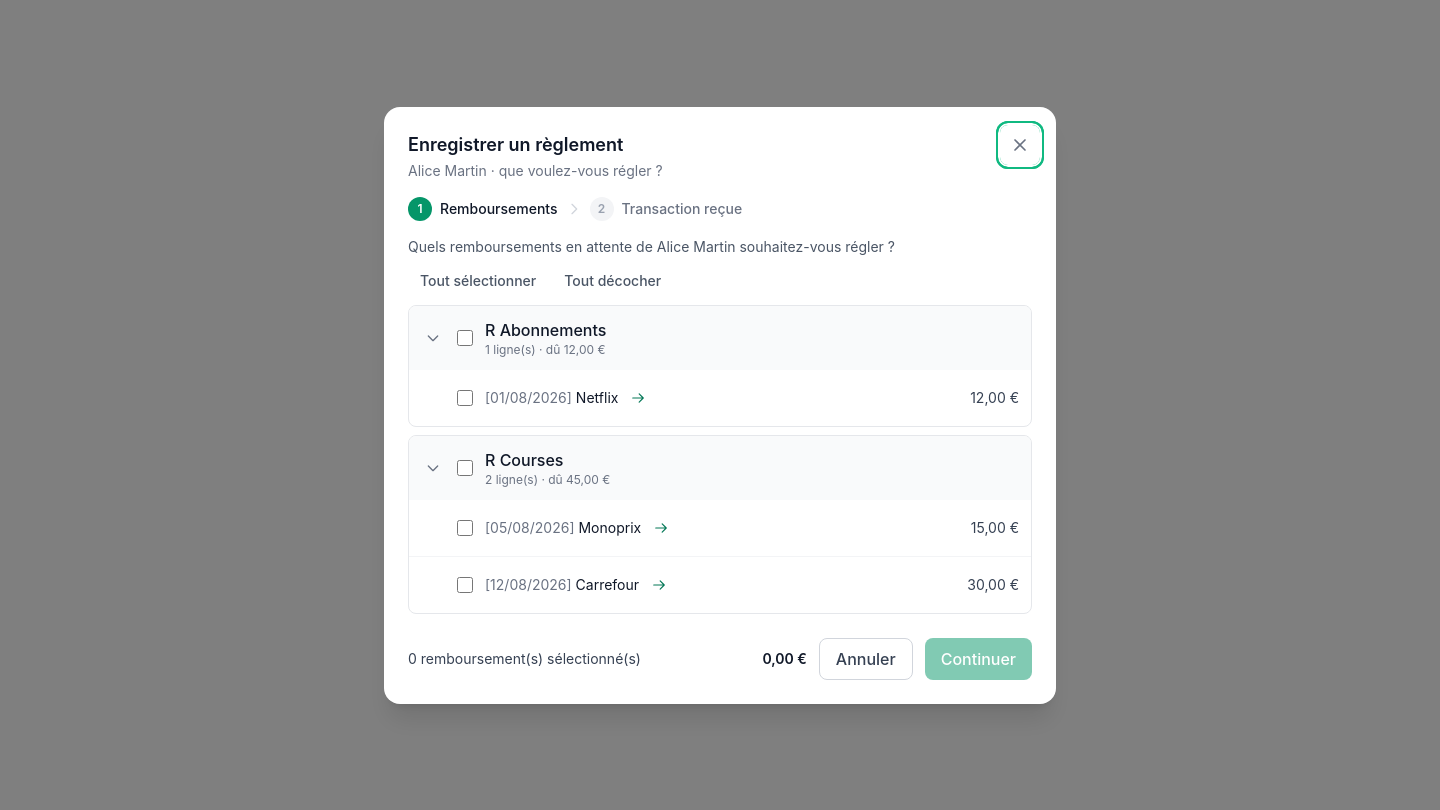
SettlementModal › loads income transactions on the receipt step and ranks the matching one first
Click the button with test id "settlement-select-all". click: x=478, y=280
box: [408,264,548,296]
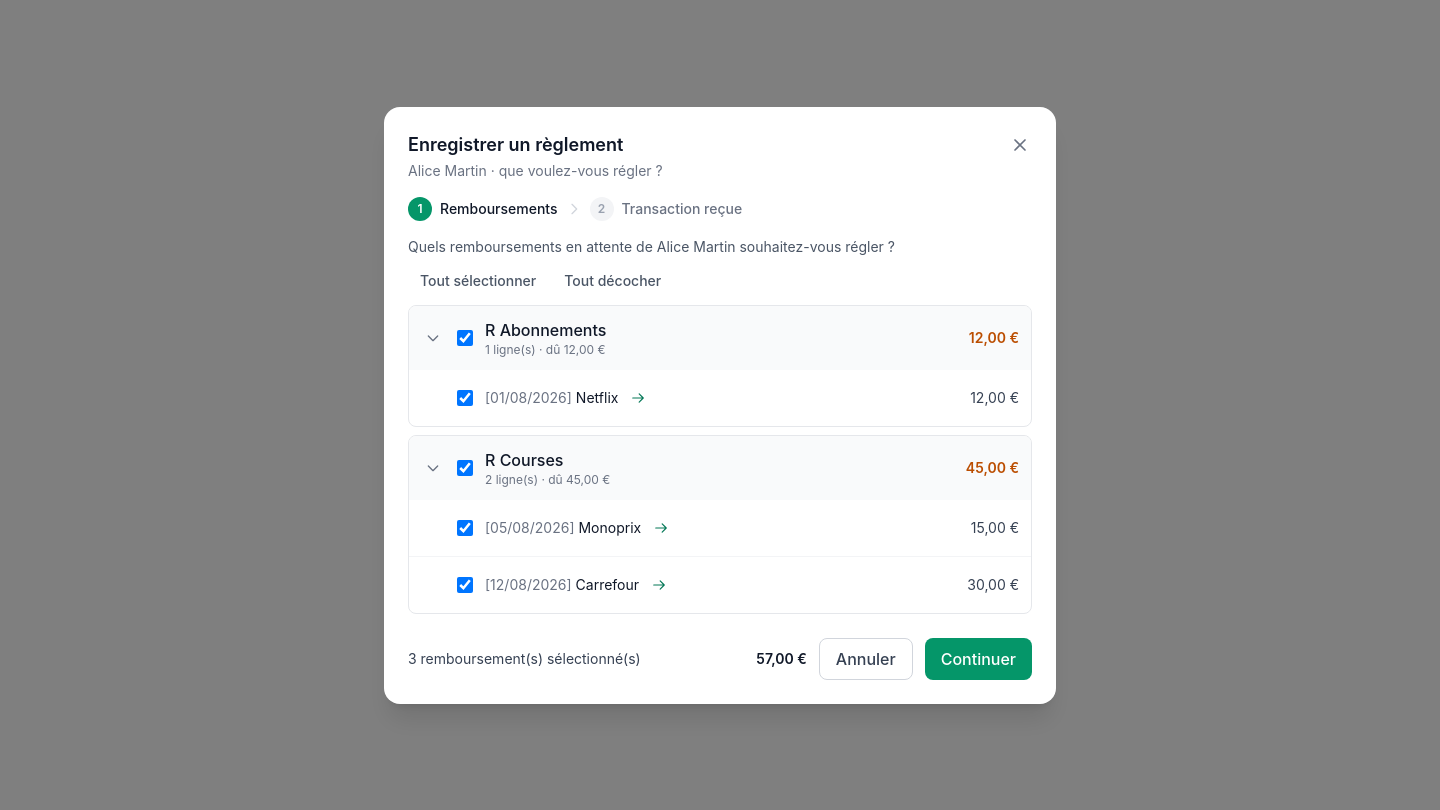
Click the button with test id "settlement-continue". click: x=978, y=658
box: [925,638,1032,680]
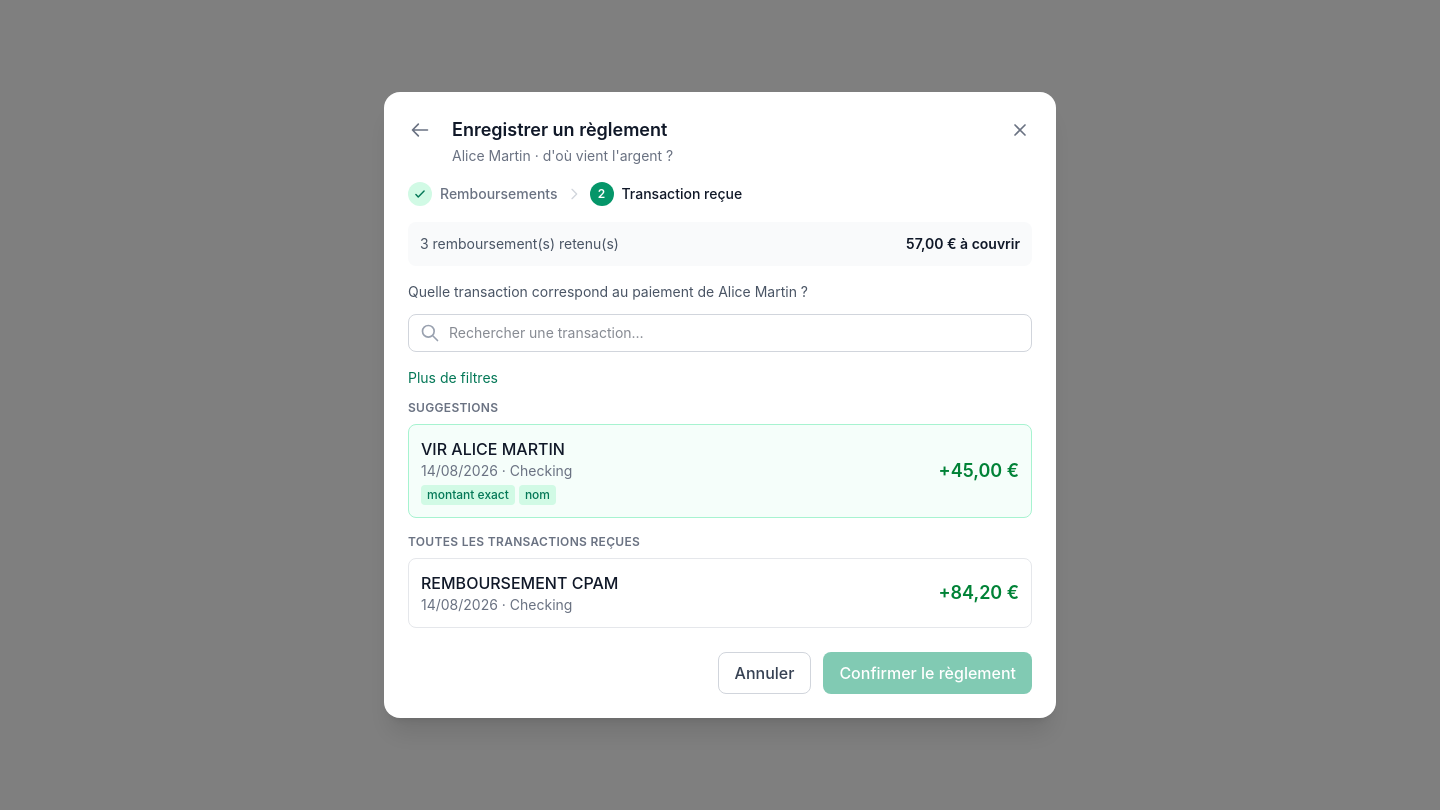
Expected: the text "Suggestions" is shown, [408,400,498,415]
Expected: the text "VIR ALICE MARTIN" is shown, [421,439,565,459]
Expected: the text "REMBOURSEMENT CPAM" is shown, [421,573,618,593]
